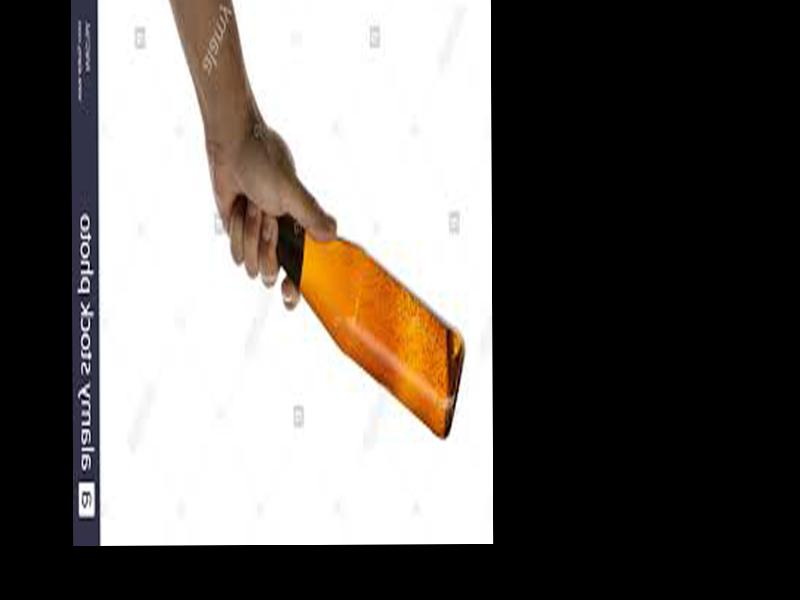Beer: (236, 198, 467, 440)
